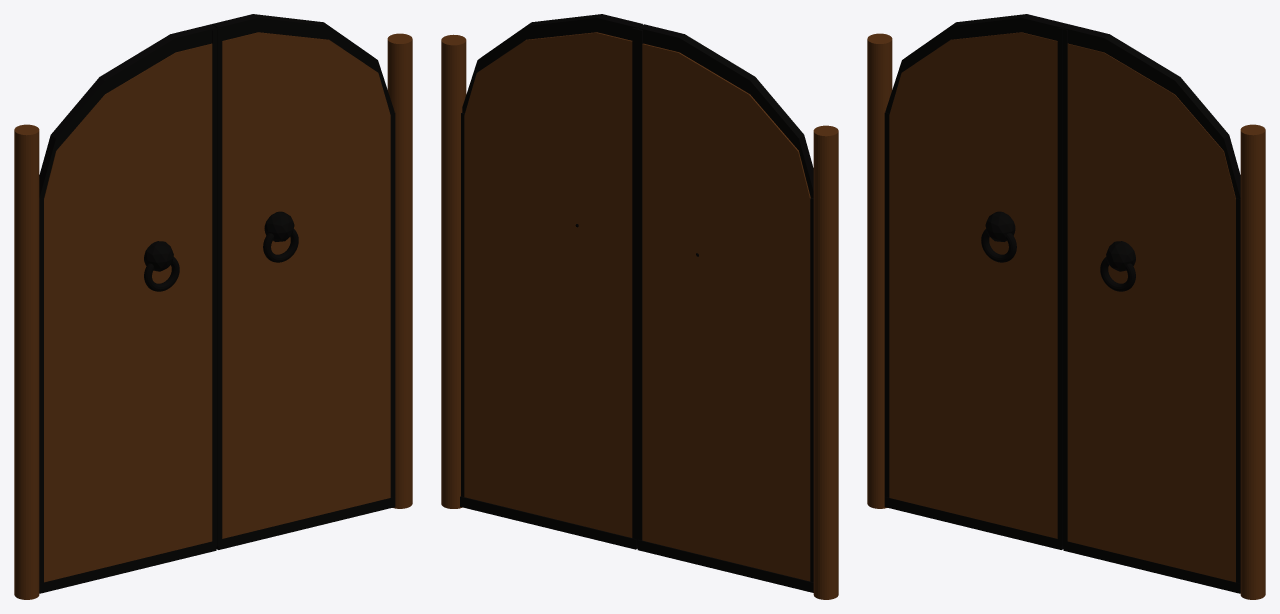
The model's file is gate.fbx.
3 views of the same model, side by side, from view 1: azimuth 30°, elevation 25°; view 2: azimuth 150°, elevation 25°; view 3: azimuth 330°, elevation 25° (orthographic).
Visible parts, largest first — view 1: Torus, Cylinder; view 2: Torus, Cylinder; view 3: Torus, Cylinder.
Part boxes in pixels (box(x1,y1,x2,y2)): Torus: box(39, 14, 395, 593); Cylinder: box(14, 33, 412, 599); Torus: box(460, 14, 813, 592); Cylinder: box(441, 34, 838, 599); Torus: box(884, 14, 1240, 593); Cylinder: box(867, 33, 1265, 599).
Size of the model in its own units: 3644 by 4620 by 309.
